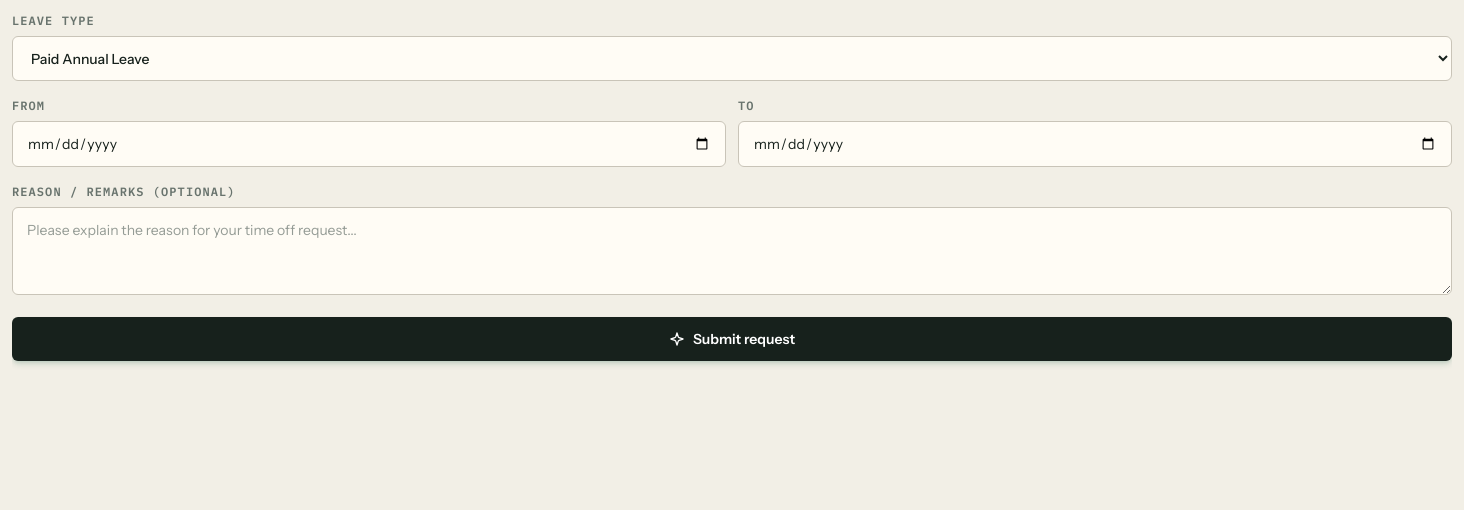
Test: LeaveForm › shows the error the action returns
This screenshot has width=1464, height=510.
Type "2026-09-07" into the date field labelled "From". click: (369, 144)
box: [12,121,726,167]
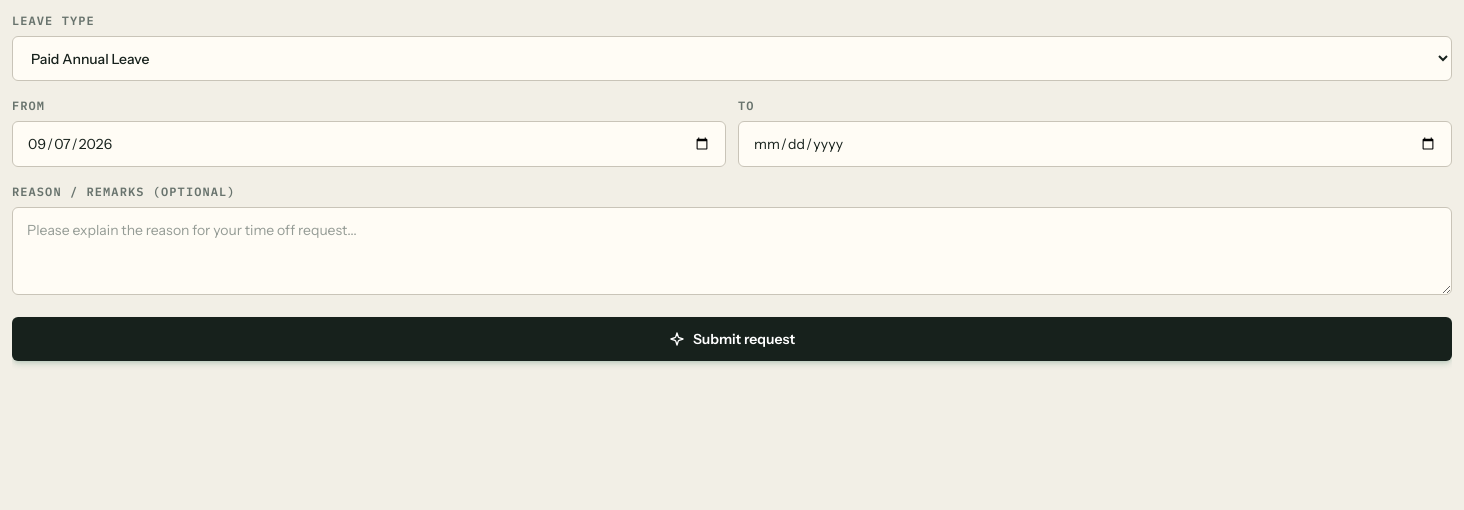
Type "2026-09-09" into the date field labelled "To". click: (1095, 144)
box: [738,121,1452,167]
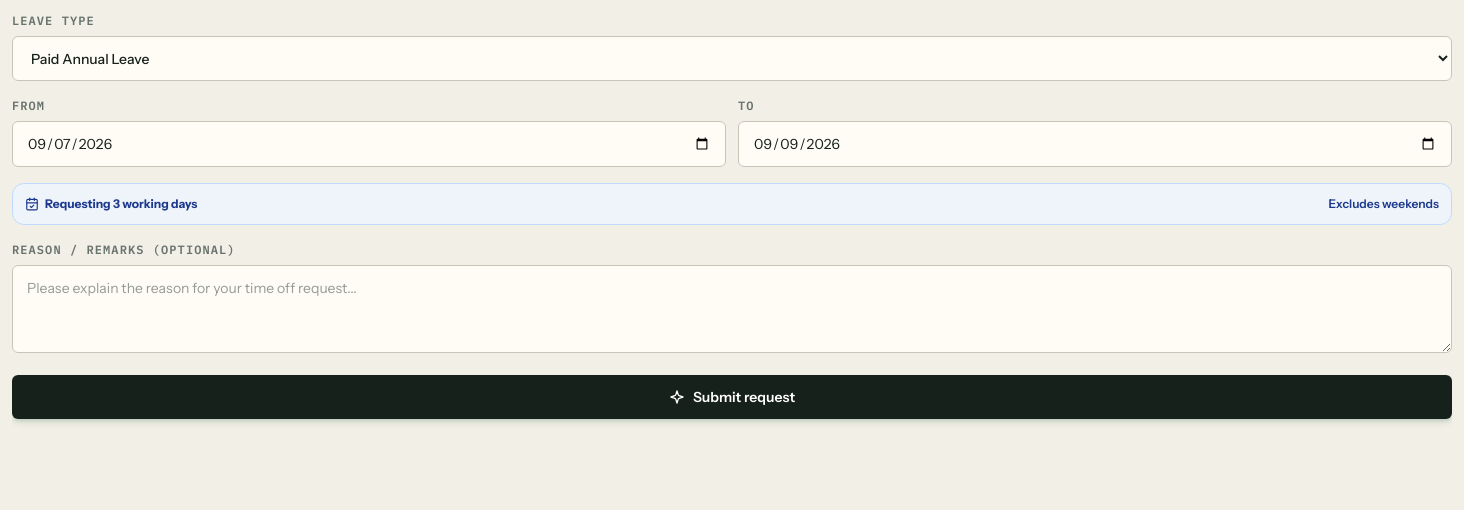
Click the button "Submit request". click: (732, 397)
box: [12,375,1452,419]
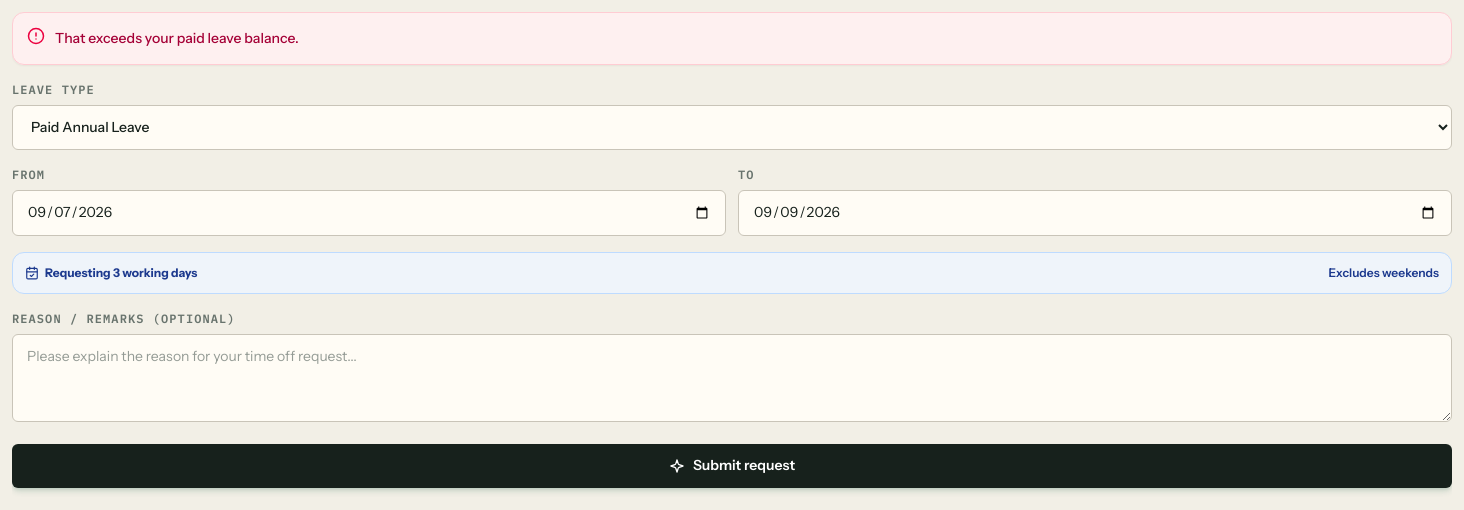
Now the text "That exceeds your paid leave balance." is shown, box [55,29,299,47]
